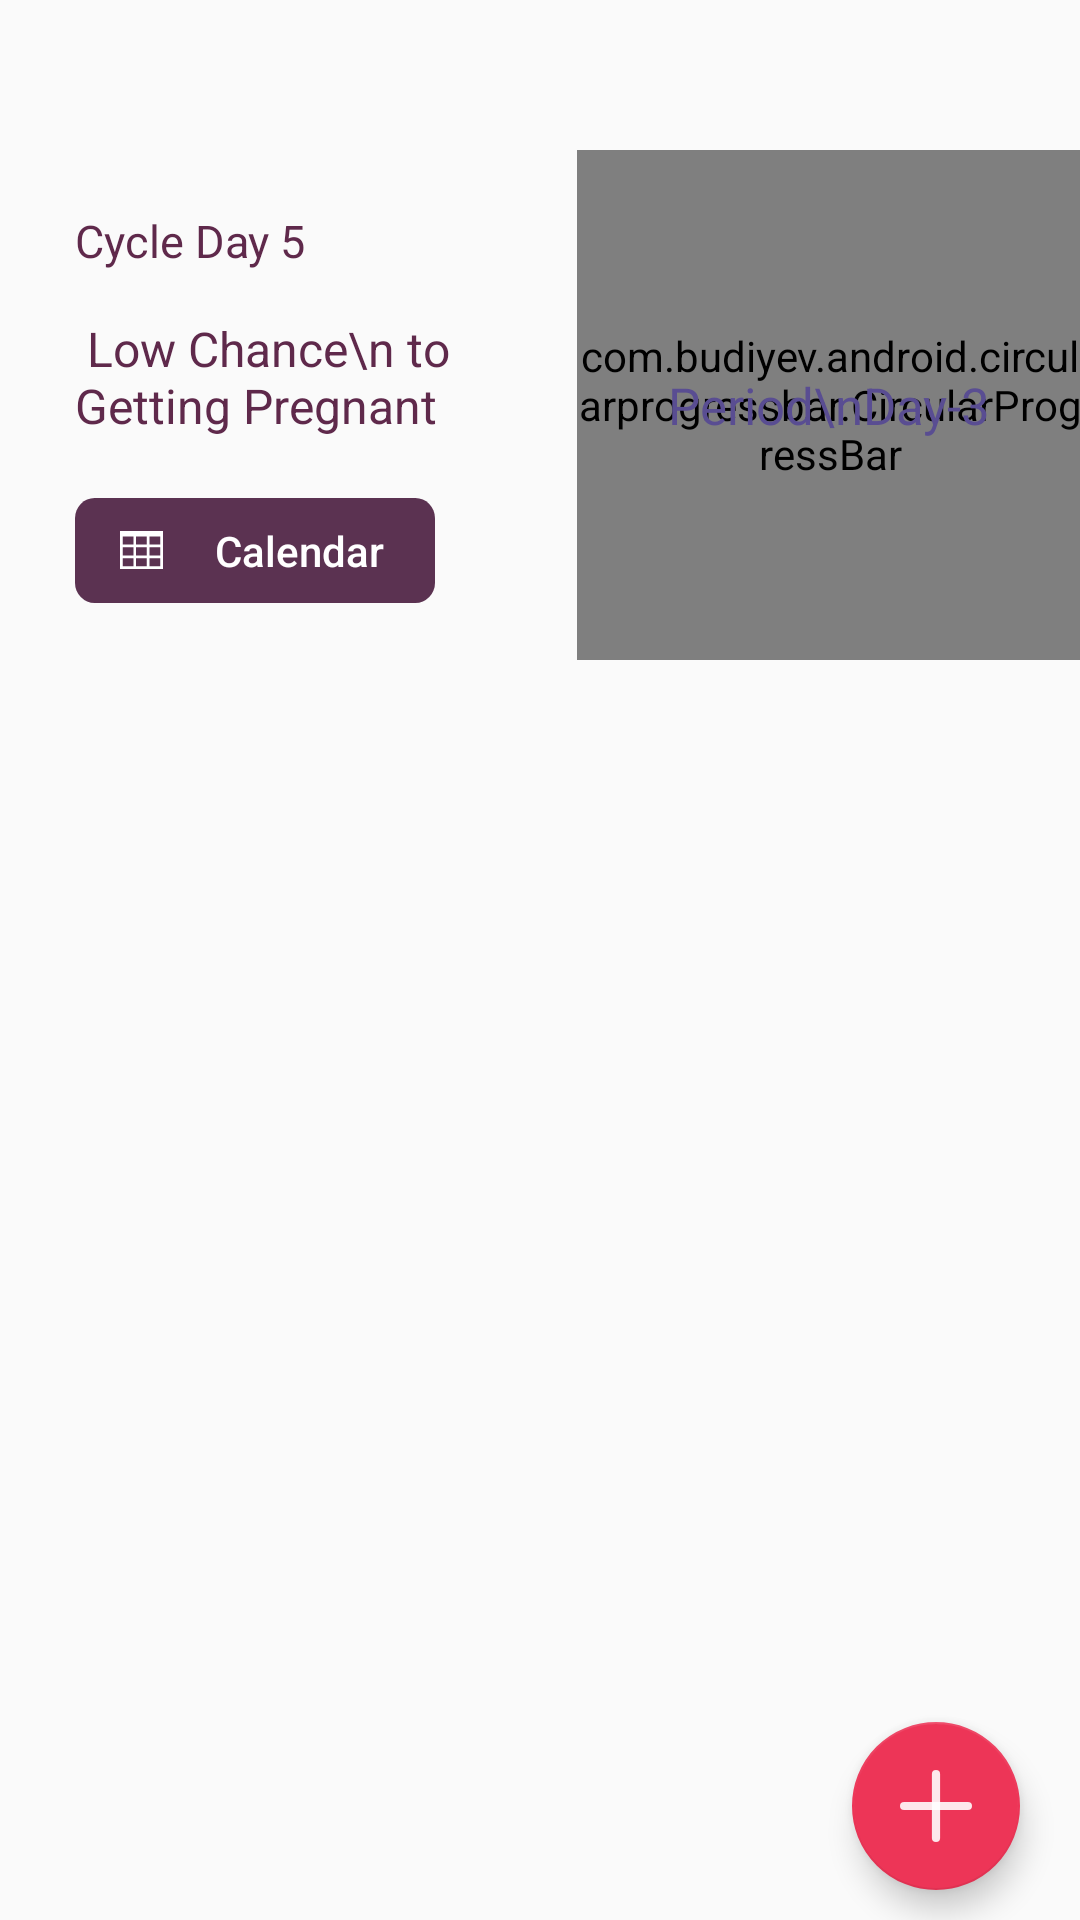

Named icons in this screenshot (1080×1920) and their centers, (x=x, y=y):
plus: (x=936, y=1806)
